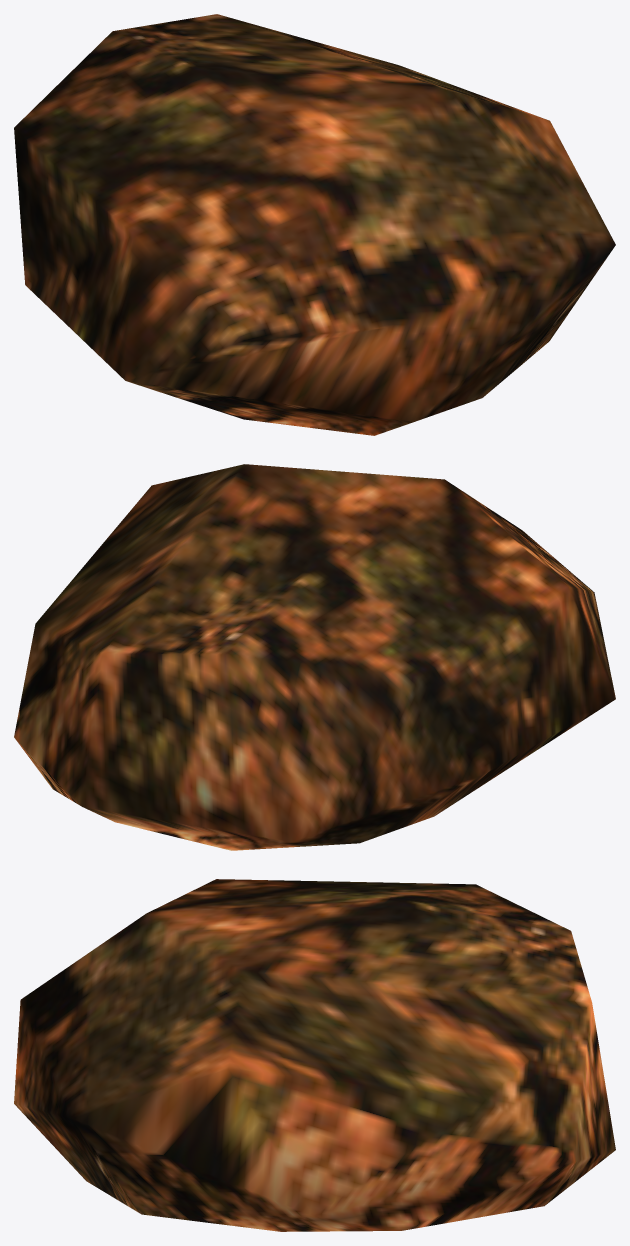
The model's file is stone11_tex3.fbx.
The picture shows the model from 3 angles, top to bottom: view 1: azimuth 30°, elevation 25°; view 2: azimuth 150°, elevation 25°; view 3: azimuth 270°, elevation 25°; orthographic projection. The views are drawn at different scales.
Visible parts, largest first — view 1: stone11_tex3Object; view 2: stone11_tex3Object; view 3: stone11_tex3Object.
Part boxes in pixels (x1,y1,x2,y2): stone11_tex3Object: (14,14,615,435); stone11_tex3Object: (14,464,615,850); stone11_tex3Object: (14,879,615,1231).
Size of the model in its own units: 0.4905 by 0.2448 by 0.5857.
1 material, 1 textured.
